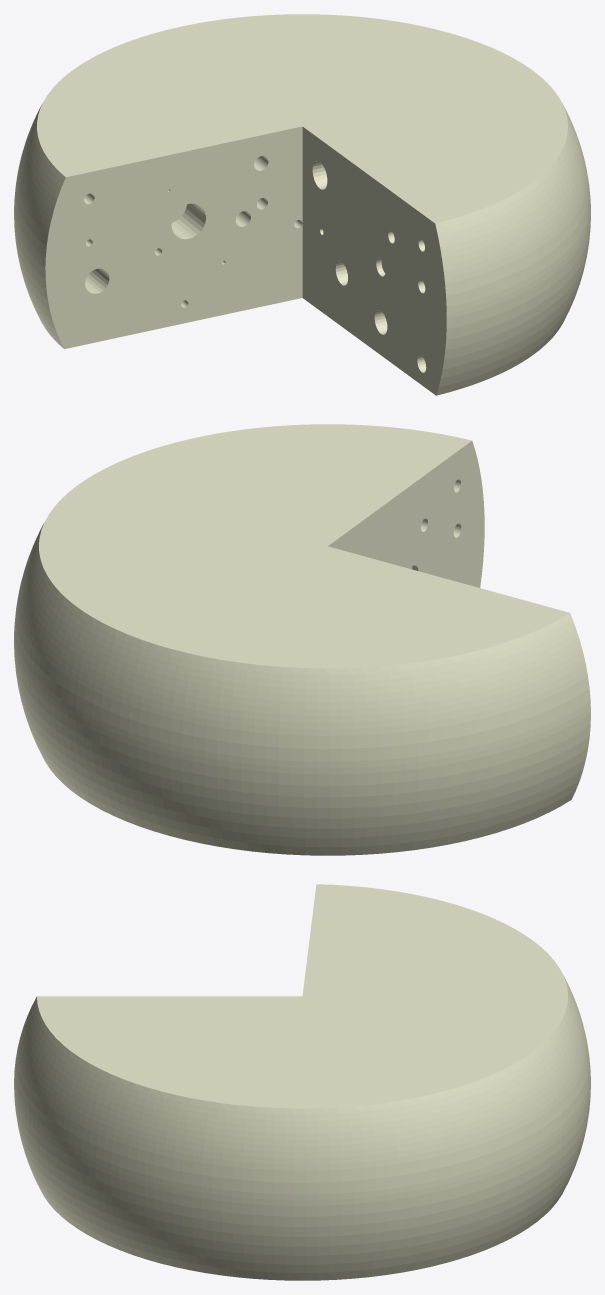
The model's file is queijoBranco.fbx.
3 views of the same model, one above another, from view 1: azimuth 30°, elevation 25°; view 2: azimuth 150°, elevation 25°; view 3: azimuth 270°, elevation 25° (orthographic). The views are drawn at different scales.
Parts seen in each view (by area): view 1: Food; view 2: Food; view 3: Food.
Boxes of the visible parts, x1=… form: Food: x1=14, y1=14, x2=590, y2=395; Food: x1=14, y1=424, x2=590, y2=855; Food: x1=14, y1=884, x2=590, y2=1280.
Bounding box in the file's own units: 2784 × 914 × 2786.
